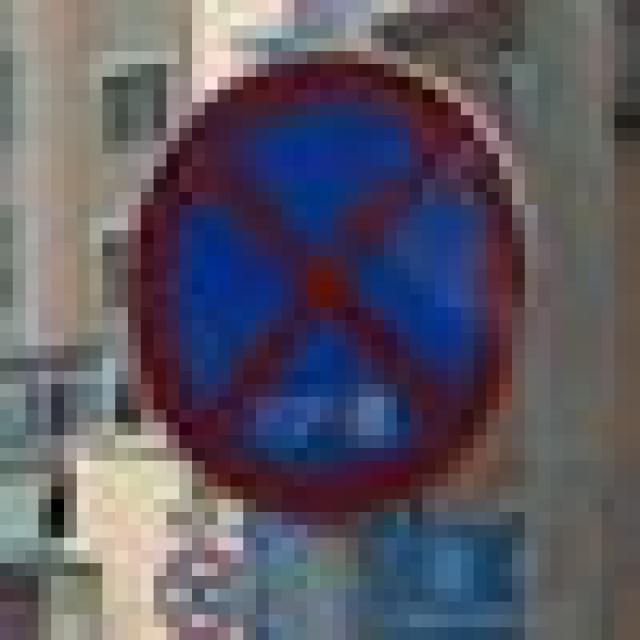no_parking: (115, 38, 525, 525)
